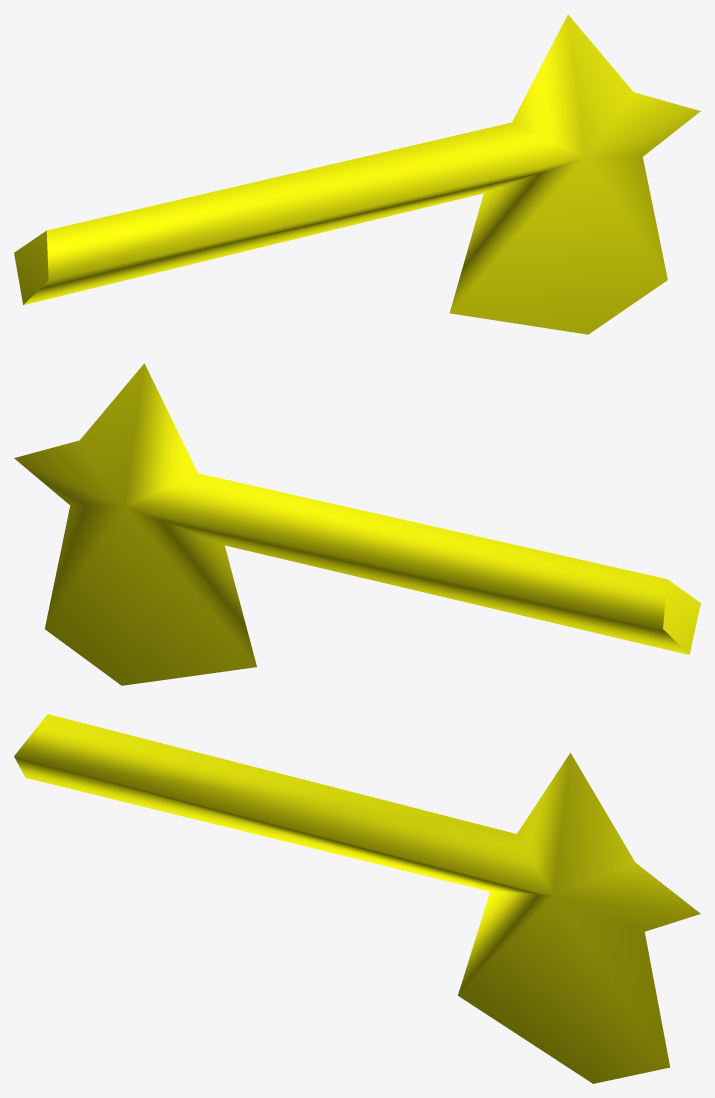
The model's file is ORC_weapon_Axe_A.glb.
The picture shows the model from 3 angles, top to bottom: view 1: azimuth 30°, elevation 25°; view 2: azimuth 150°, elevation 25°; view 3: azimuth 330°, elevation 25°; orthographic projection.
Parts seen in each view (by area): view 1: ORC_weapon_Axe_A; view 2: ORC_weapon_Axe_A; view 3: ORC_weapon_Axe_A.
Boxes of the visible parts, box(x1,y1,x2,y2) form: ORC_weapon_Axe_A: box(14, 14, 700, 334); ORC_weapon_Axe_A: box(14, 363, 700, 685); ORC_weapon_Axe_A: box(14, 714, 700, 1083).
Bounding box in the file's own units: 0.8888 × 0.4102 × 0.0832.
Materials: 1 (1 with a texture image).
